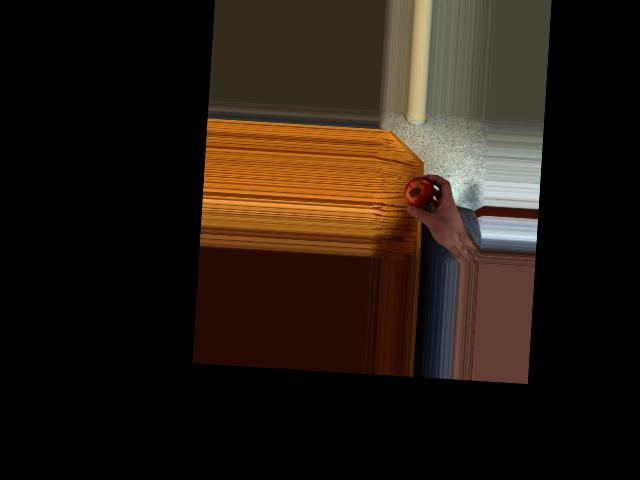apple: (403, 174, 434, 210)
